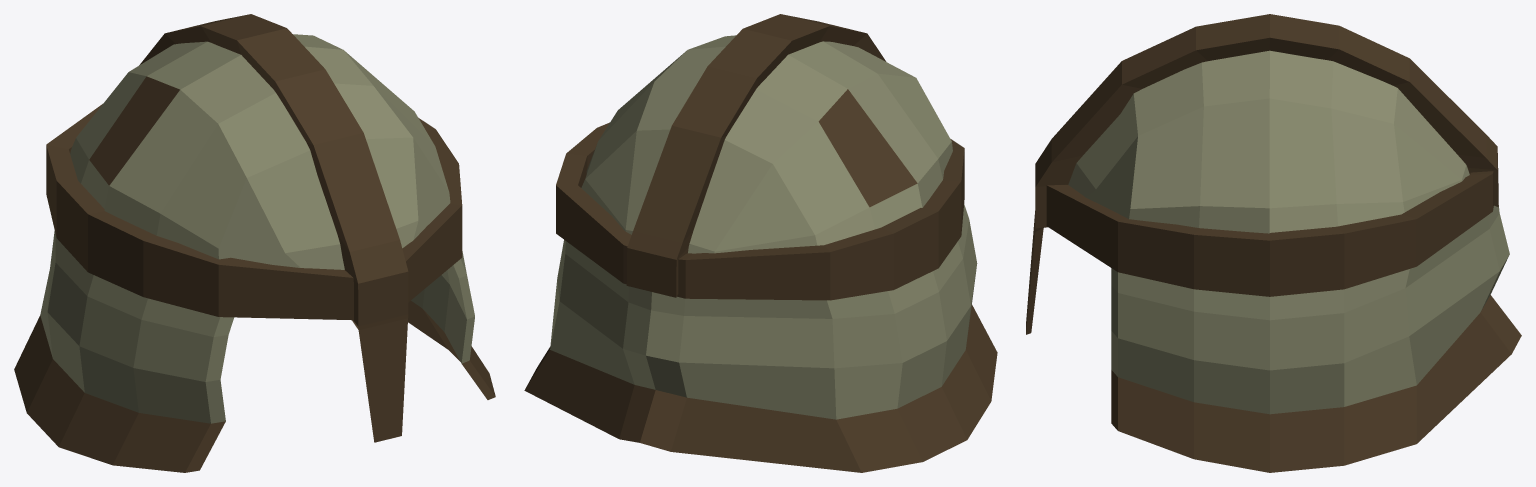
The model's file is Icon 1.fbx.
3 views of the same model, side by side, from view 1: azimuth 30°, elevation 25°; view 2: azimuth 150°, elevation 25°; view 3: azimuth 270°, elevation 25° (orthographic). The views are drawn at different scales.
Parts seen in each view (by area): view 1: Leather 2 Helmet; view 2: Leather 2 Helmet; view 3: Leather 2 Helmet.
Part boxes in pixels (left/top/right/bottom): Leather 2 Helmet: left=14, top=14, right=495, bottom=472; Leather 2 Helmet: left=524, top=14, right=997, bottom=472; Leather 2 Helmet: left=1026, top=14, right=1521, bottom=472.
Bounding box in the file's own units: 28.47 × 24.31 × 31.09.
